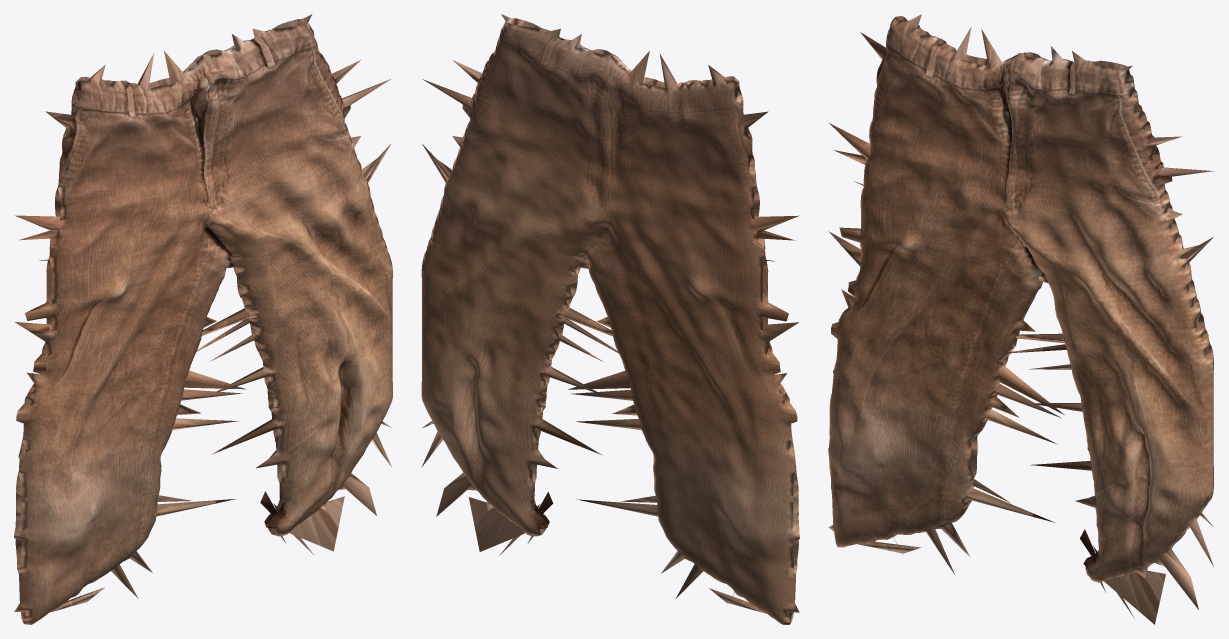
Rendered from brown-corduroy.glb.
The picture shows the model from 3 angles, left to right: view 1: azimuth 30°, elevation 25°; view 2: azimuth 150°, elevation 25°; view 3: azimuth 330°, elevation 25°; orthographic projection. The views are drawn at different scales.
Parts seen in each view (by area): view 1: brown-corduroy; view 2: brown-corduroy; view 3: brown-corduroy.
Part boxes in pixels (x1=…): brown-corduroy: x1=14, y1=14, x2=392, y2=624; brown-corduroy: x1=421, y1=14, x2=799, y2=624; brown-corduroy: x1=828, y1=14, x2=1213, y2=624.
Bounding box in the file's own units: 0.7285 × 0.999 × 0.0957.
1 material, 1 textured.
